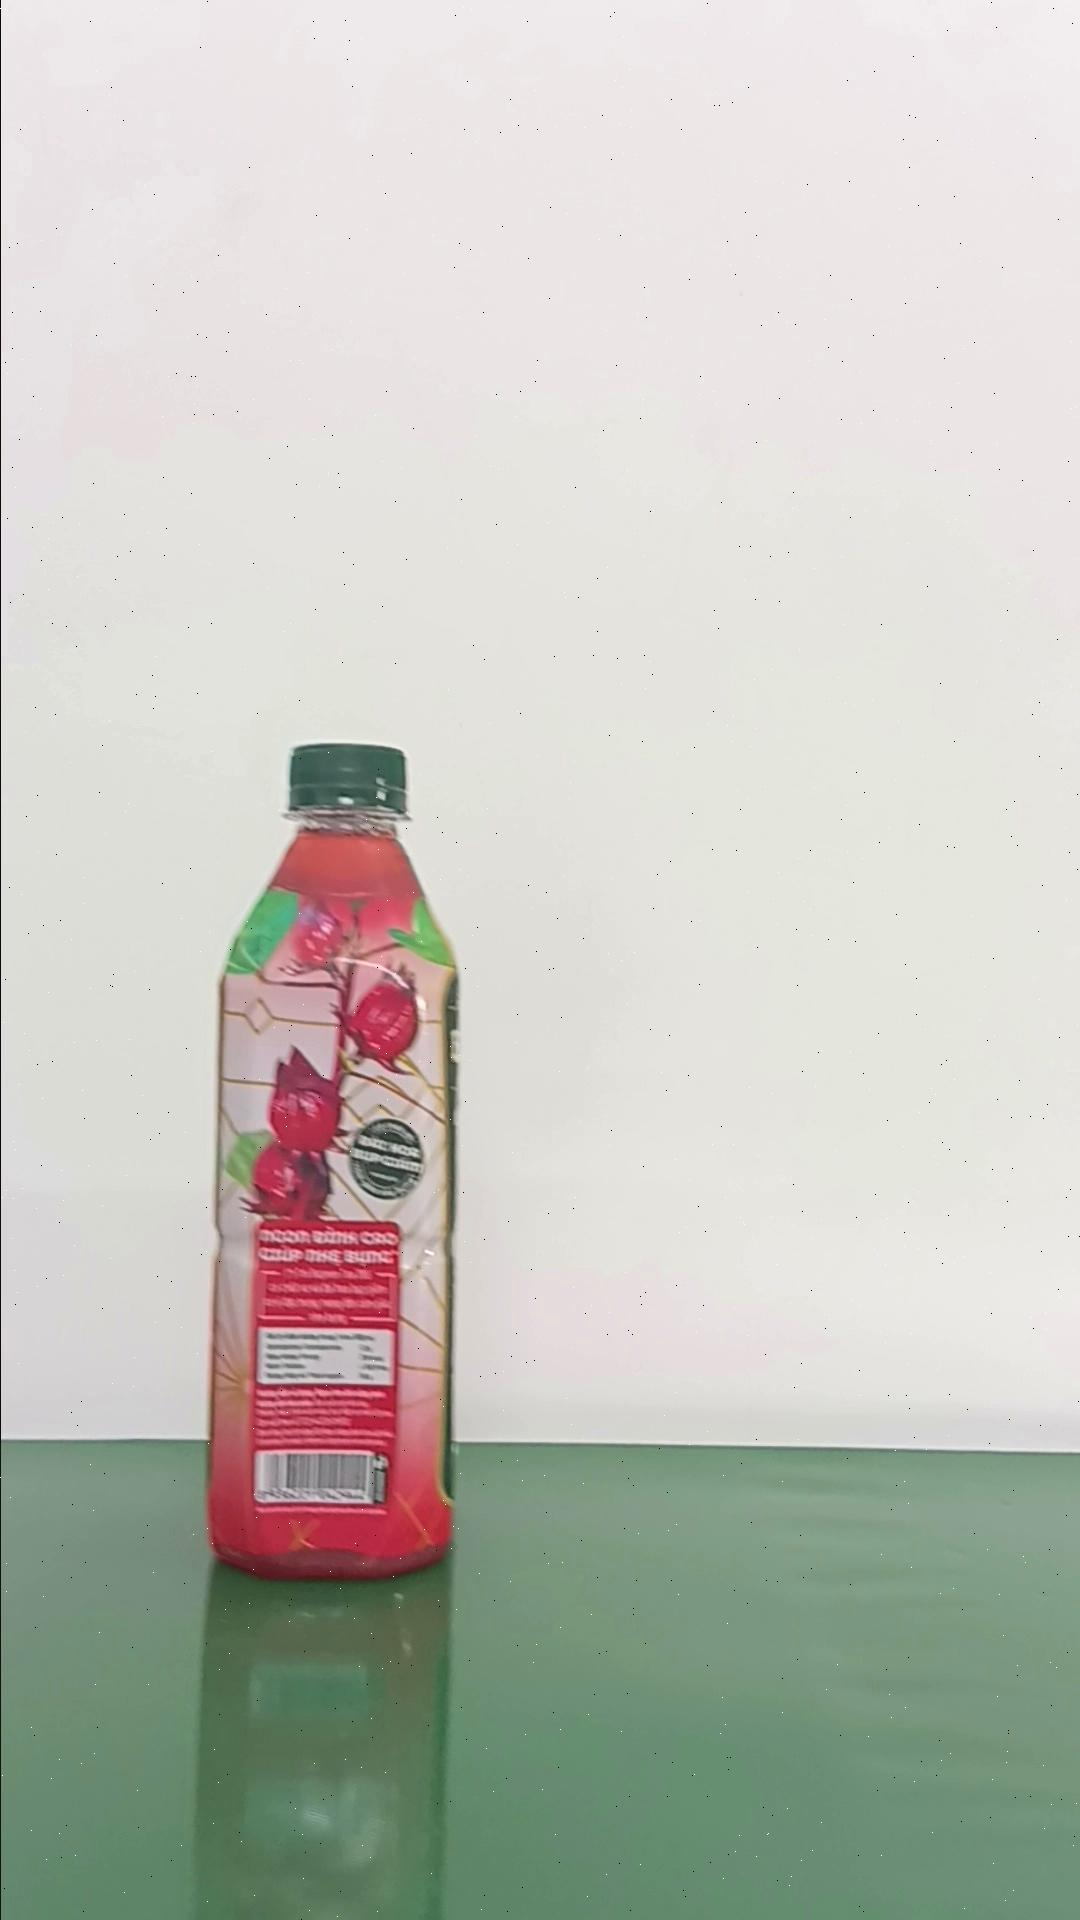khong loi: (204, 738, 462, 1581)
